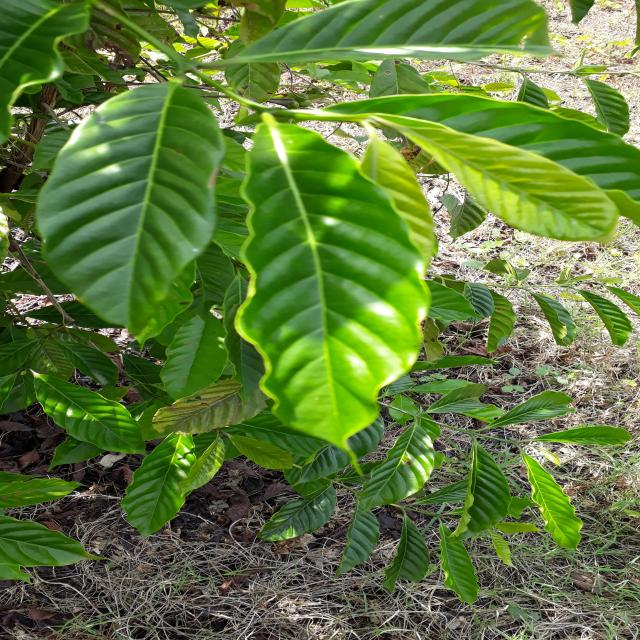Sanas: (236, 116, 436, 451)
